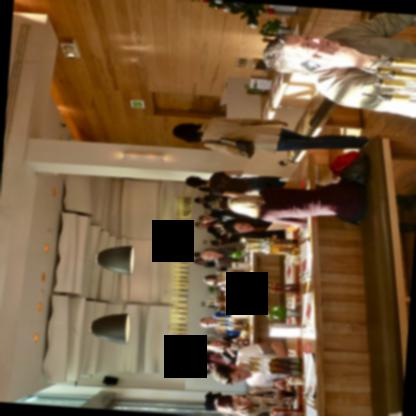backpack: (326, 149, 370, 183)
handbag: (201, 136, 256, 160), (327, 150, 368, 182)
